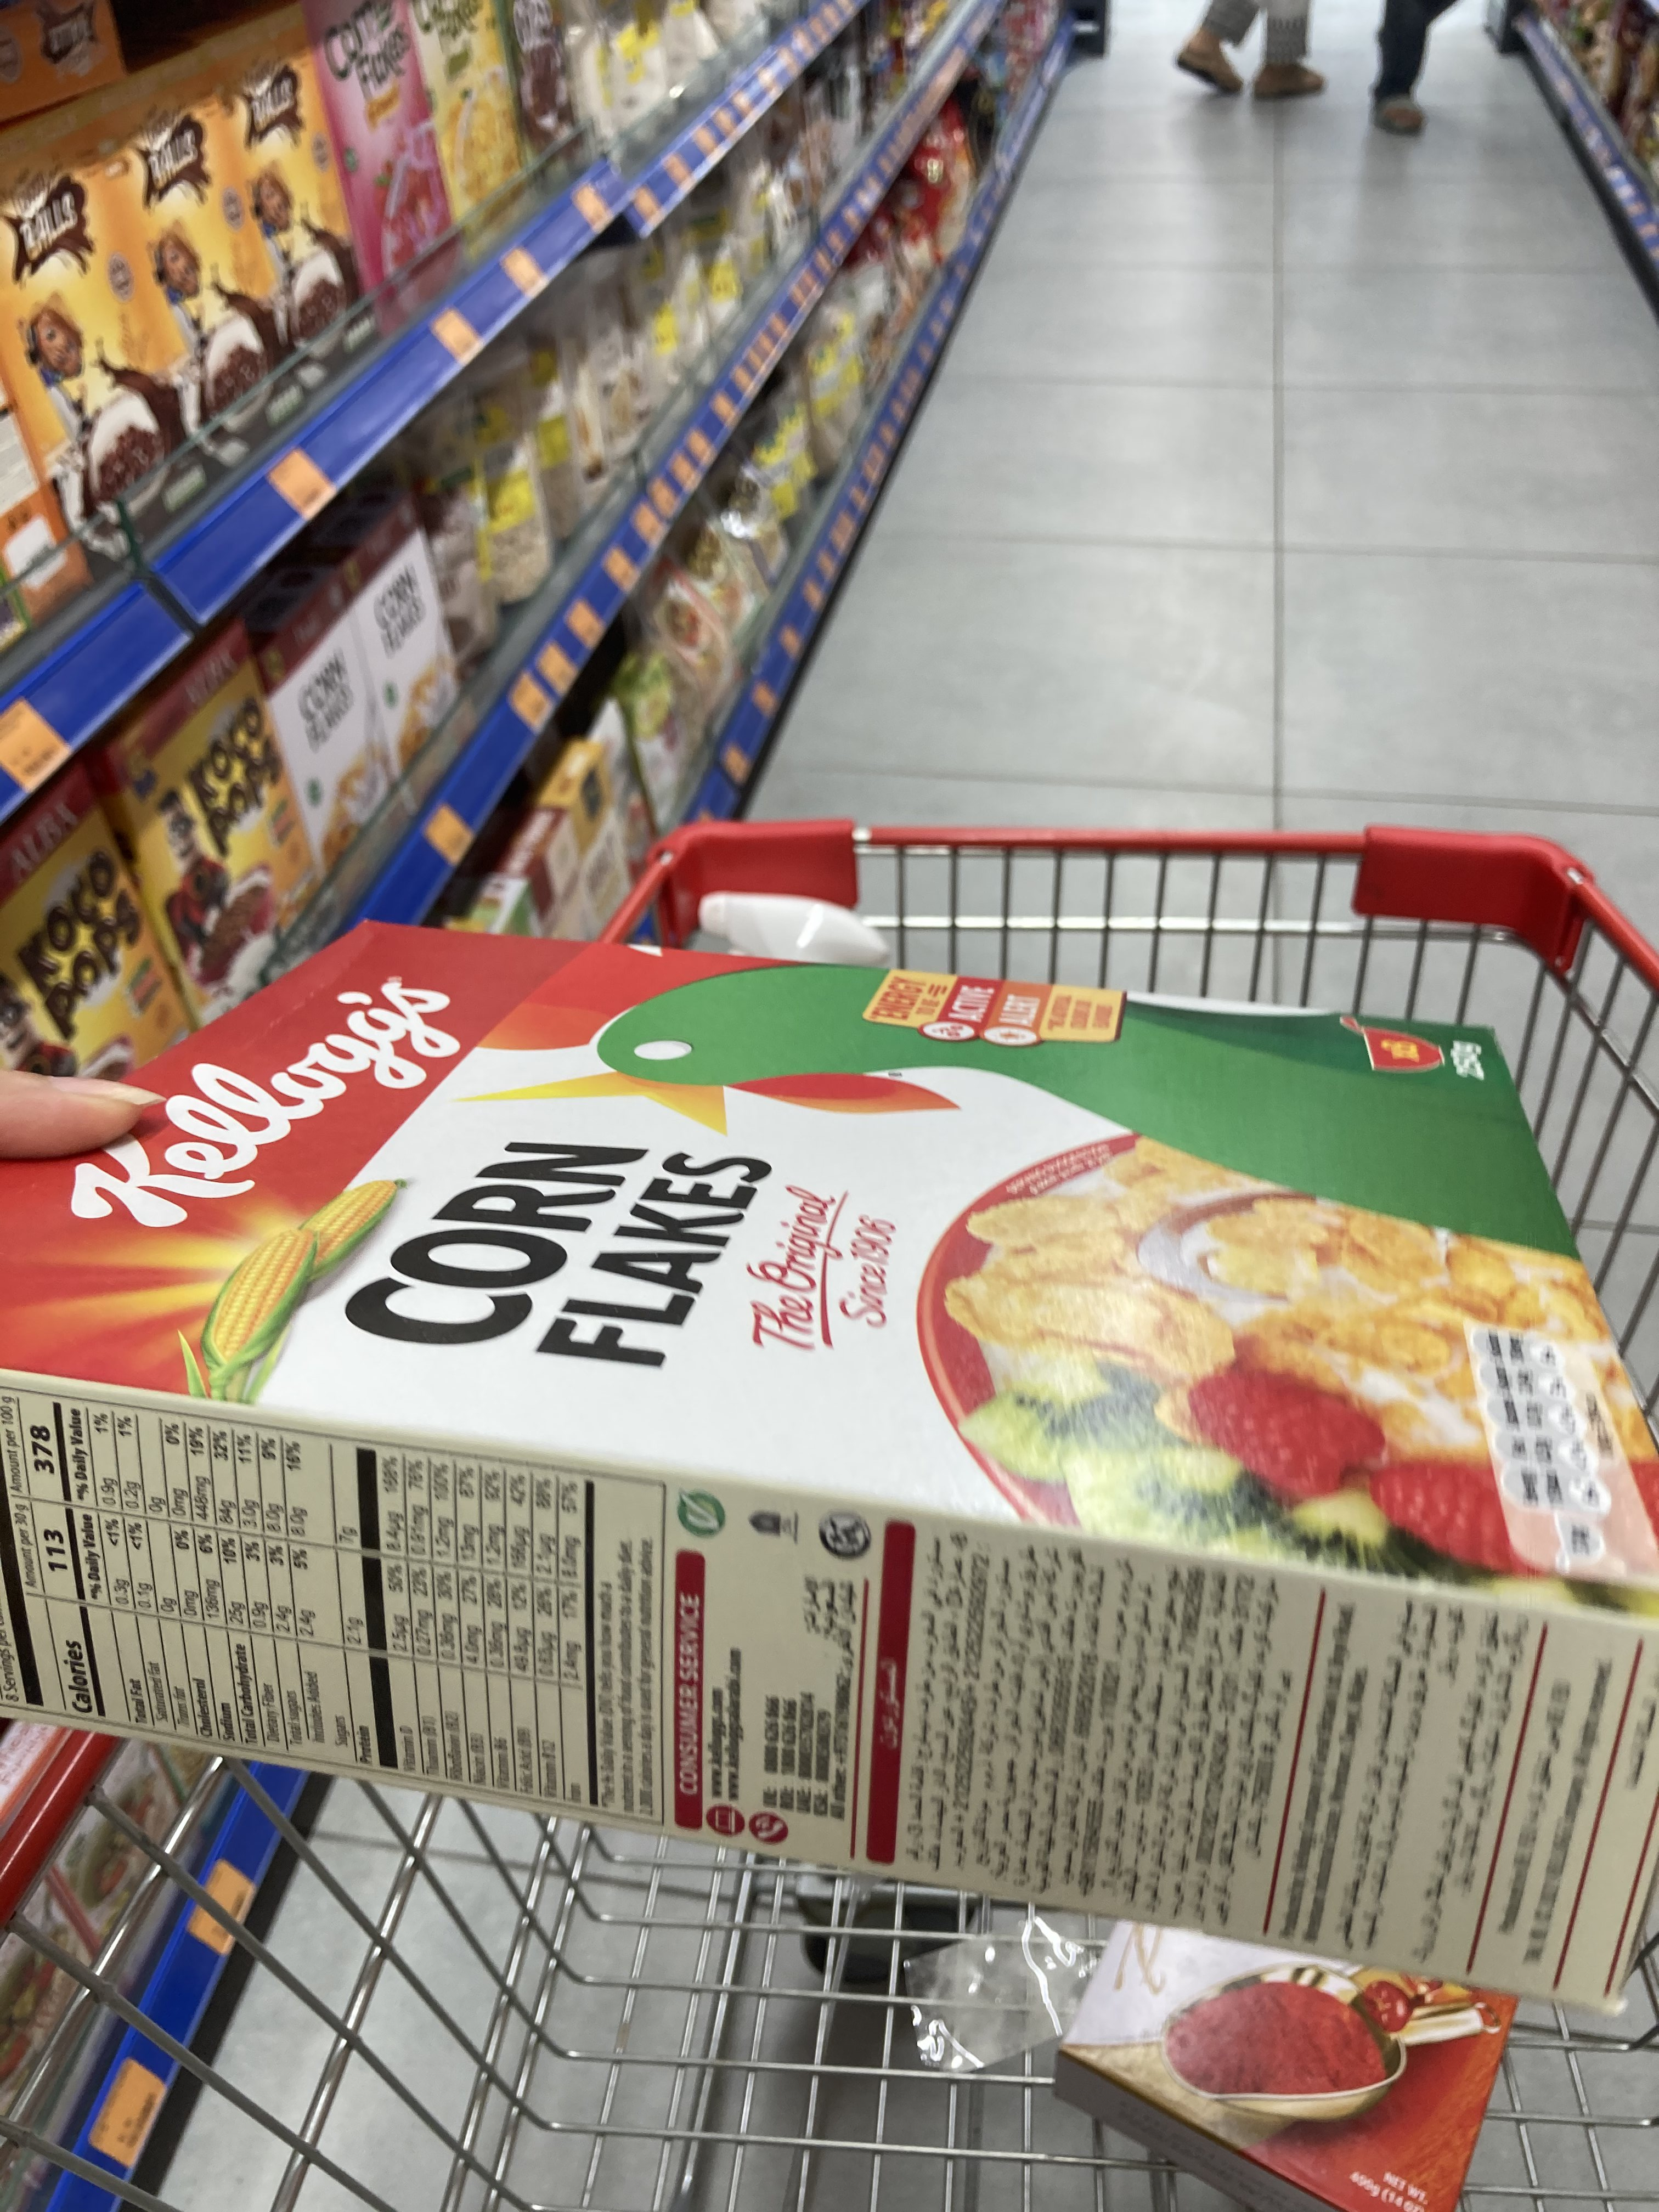Kellogg's Corn Flakes: (5, 925, 1659, 2017)
